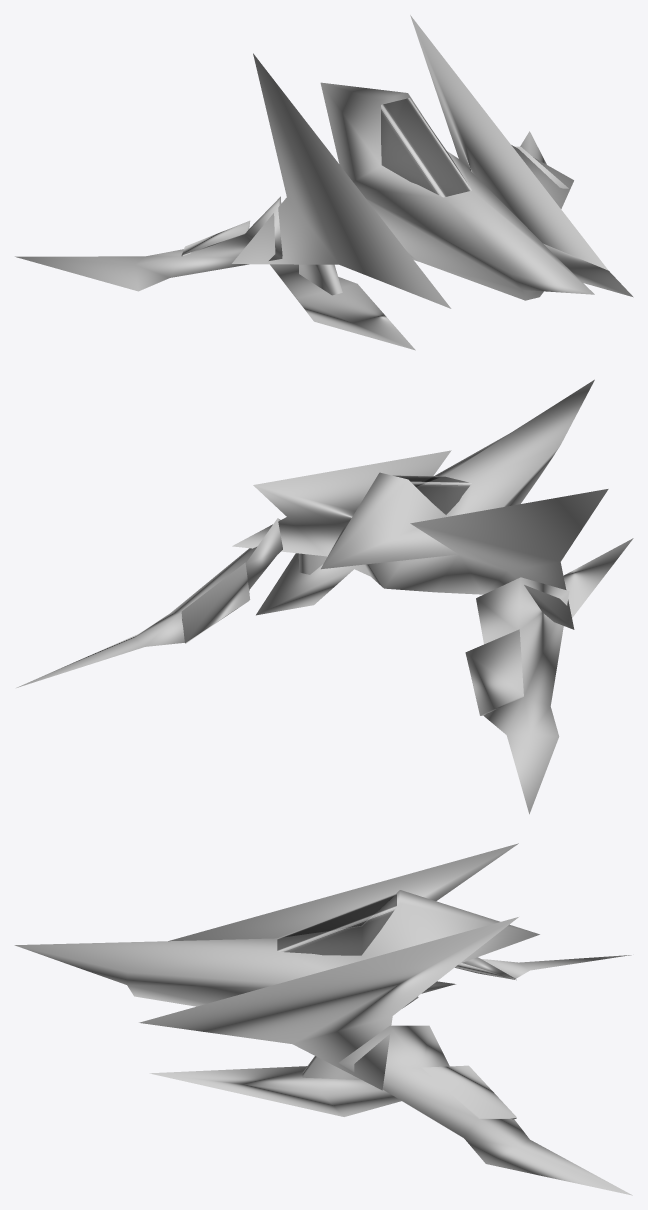
File: arwingNew53.obj
3 views of the same model, one above another, from view 1: azimuth 30°, elevation 25°; view 2: azimuth 150°, elevation 25°; view 3: azimuth 270°, elevation 25° (orthographic). The views are drawn at different scales.
Visible parts, largest first — view 1: Arwing.002; view 2: Arwing.002; view 3: Arwing.002.
Boxes of the visible parts, bbox=[...] form: Arwing.002: bbox=[15, 15, 633, 350]; Arwing.002: bbox=[16, 379, 633, 814]; Arwing.002: bbox=[14, 843, 632, 1195].
Size of the model in its own units: 5.68 by 2.15 by 6.18.
